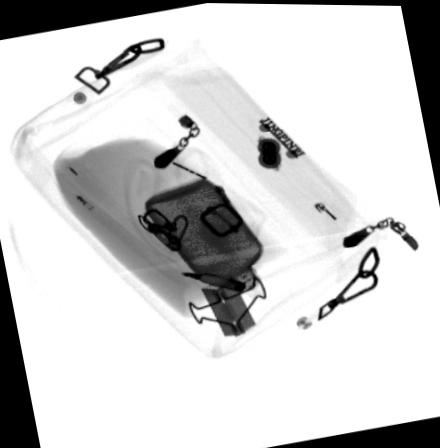Bullet: (177, 269, 246, 292)
